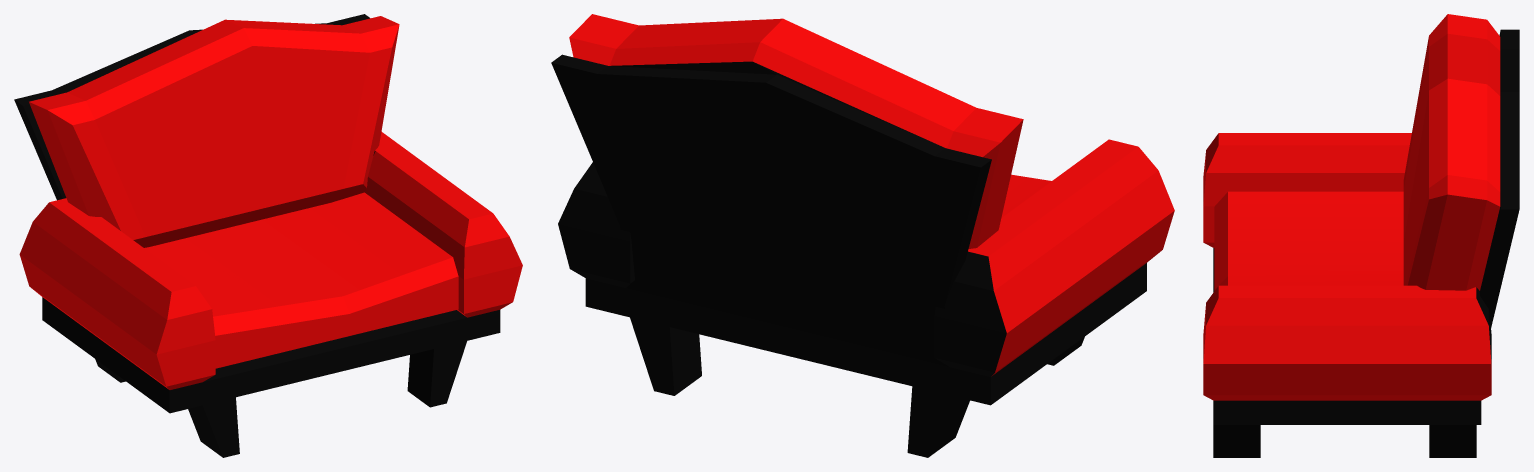
File: ArmChair_1.FBX
The picture shows the model from 3 angles, left to right: view 1: azimuth 30°, elevation 25°; view 2: azimuth 150°, elevation 25°; view 3: azimuth 270°, elevation 25°; orthographic projection. The views are drawn at different scales.
Parts seen in each view (by area): view 1: Box038; view 2: Box038; view 3: Box038.
Boxes of the visible parts, x1,y1,x2,y2 form: Box038: (14,14,522,457); Box038: (551,14,1174,457); Box038: (1203,14,1519,457).
Bounding box in the file's own units: 185 × 152 × 131.
